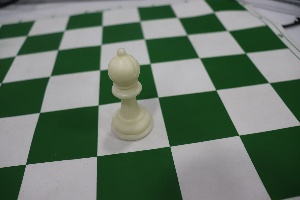white_bishop: (90, 32, 159, 147)
